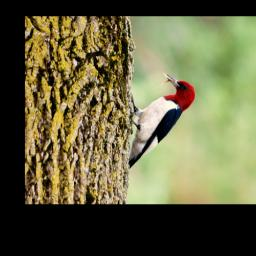Woodpecker: (129, 74, 196, 168)
